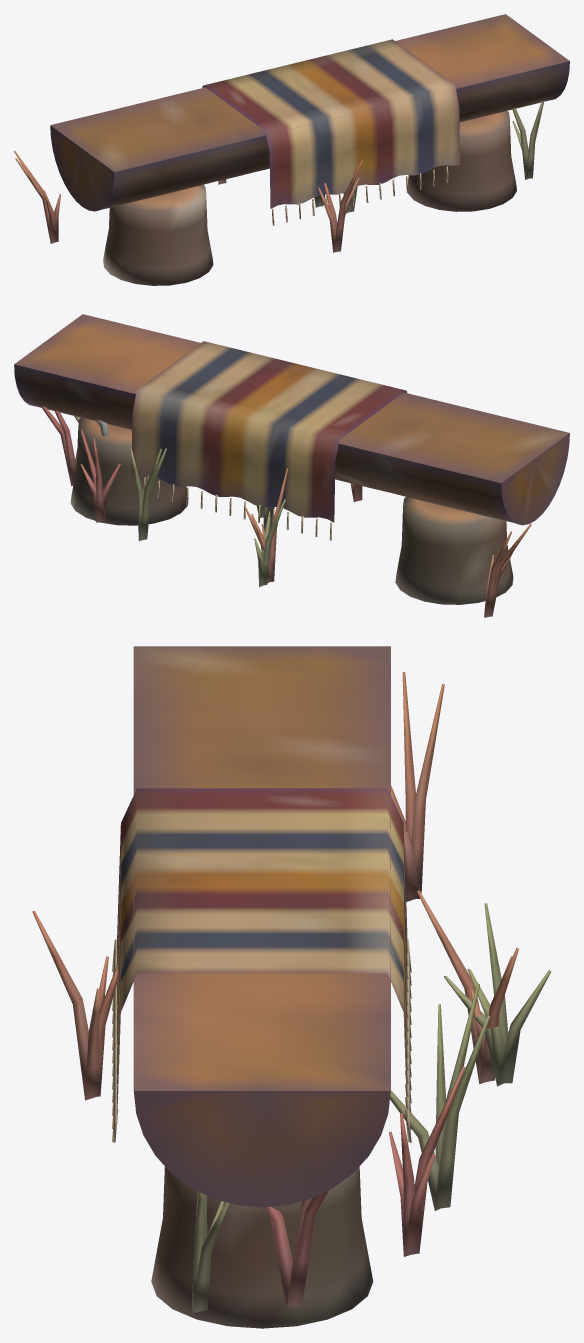
The model's file is kamp_oturak.glb.
The picture shows the model from 3 angles, top to bottom: view 1: azimuth 30°, elevation 25°; view 2: azimuth 150°, elevation 25°; view 3: azimuth 270°, elevation 25°; orthographic projection. The views are drawn at different scales.
Parts seen in each view (by area): view 1: kamp_oturak_LOD0; view 2: kamp_oturak_LOD0; view 3: kamp_oturak_LOD0.
Part boxes in pixels (left/top/right/bottom): kamp_oturak_LOD0: left=14, top=14, right=569, bottom=285; kamp_oturak_LOD0: left=14, top=314, right=569, bottom=617; kamp_oturak_LOD0: left=32, top=646, right=551, bottom=1328.
Size of what is drawn, in the model's own units: 1.93 by 0.512 by 0.8881.
